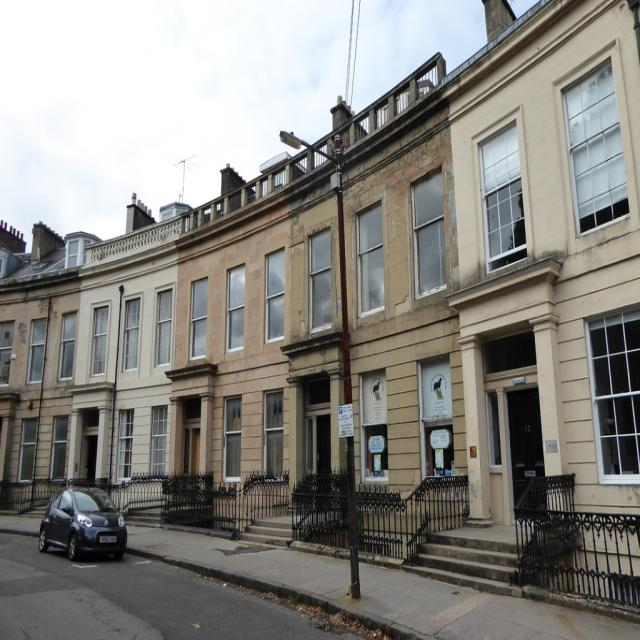car: (36, 489, 126, 565)
